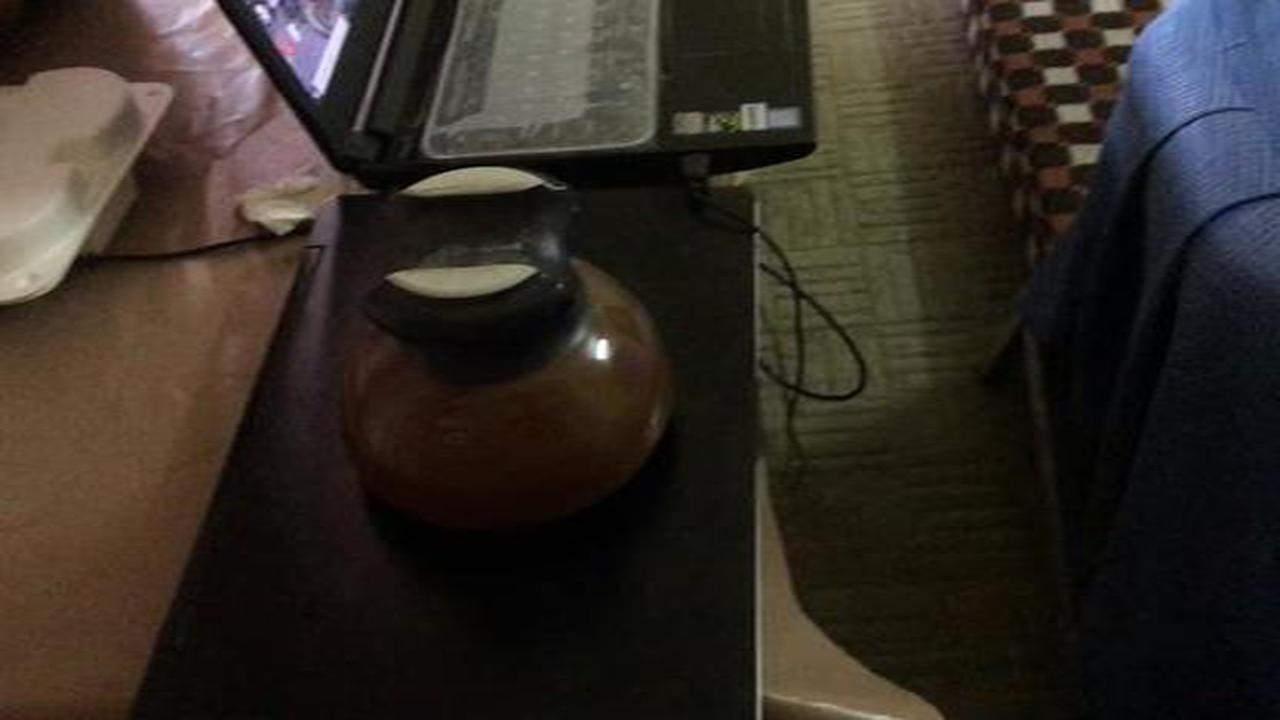insulator_pin: (311, 155, 693, 553)
